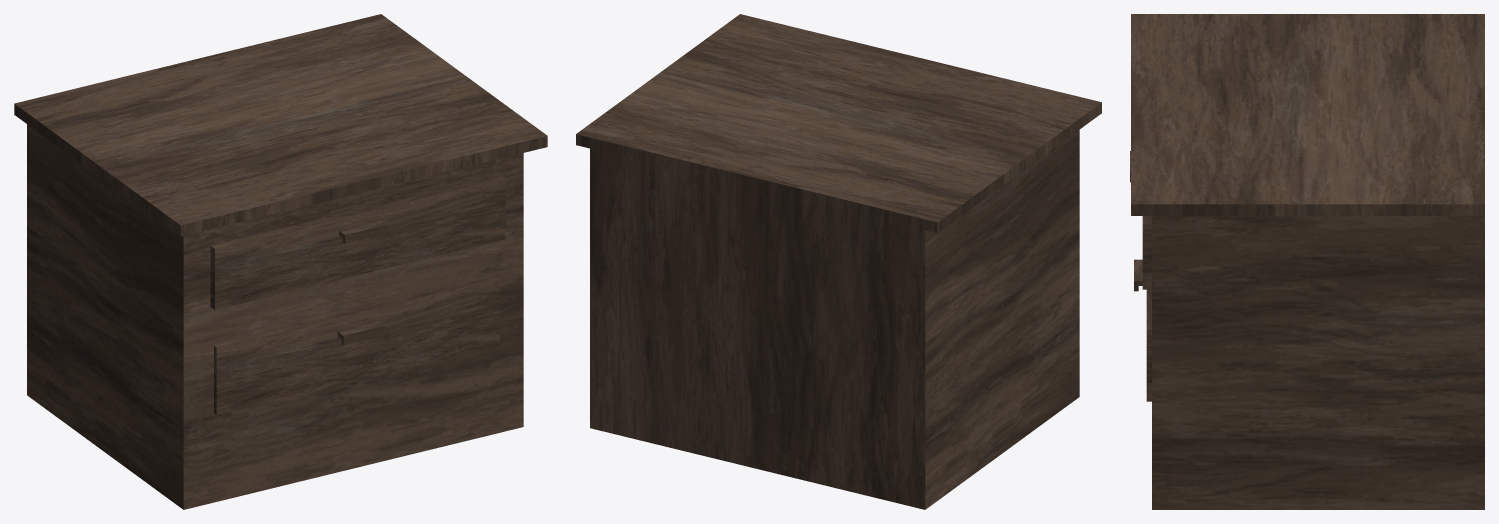
The model's file is Cajonera.fbx.
3 views of the same model, side by side, from view 1: azimuth 30°, elevation 25°; view 2: azimuth 150°, elevation 25°; view 3: azimuth 270°, elevation 25° (orthographic). The views are drawn at different scales.
Parts seen in each view (by area): view 1: Box001, Object001, Object; view 2: Box001; view 3: Box001, Object001, Object.
Part boxes in pixels (x1,y1,x2,y2): Box001: (14,14,547,509); Object001: (214,276,499,414); Object: (210,175,505,309); Box001: (576,14,1101,509); Box001: (1131,14,1484,509); Object001: (1134,259,1151,401); Object: (1130,151,1151,289).
Bounding box in the file's own units: 51.68 × 39.66 × 40.73.
Materials: 1 (1 with a texture image).
